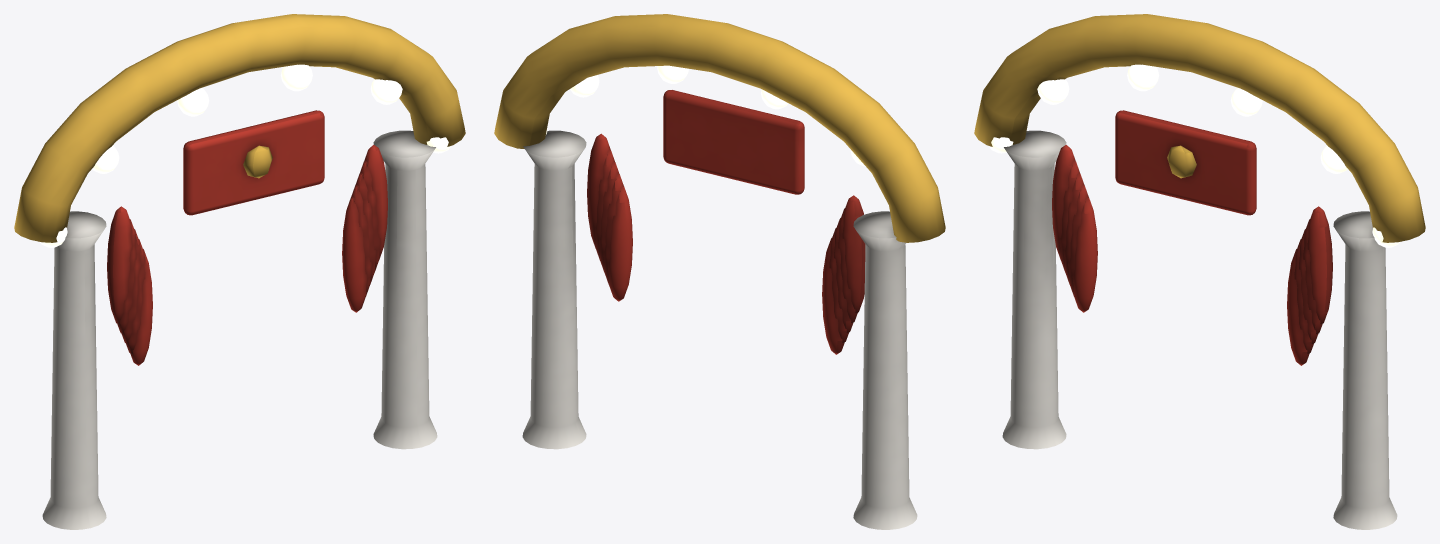
File: GateOrchestra.fbx
The picture shows the model from 3 angles, left to right: view 1: azimuth 30°, elevation 25°; view 2: azimuth 150°, elevation 25°; view 3: azimuth 330°, elevation 25°; orthographic projection.
Visible parts, largest first — view 1: GateOrchestra_Body; view 2: GateOrchestra_Body; view 3: GateOrchestra_Body.
Part boxes in pixels (<box>): GateOrchestra_Body: <box>14,14,465,529</box>; GateOrchestra_Body: <box>494,14,945,529</box>; GateOrchestra_Body: <box>974,14,1425,529</box>.
Size of the model in its own units: 5.1 by 4.95 by 0.7582.
